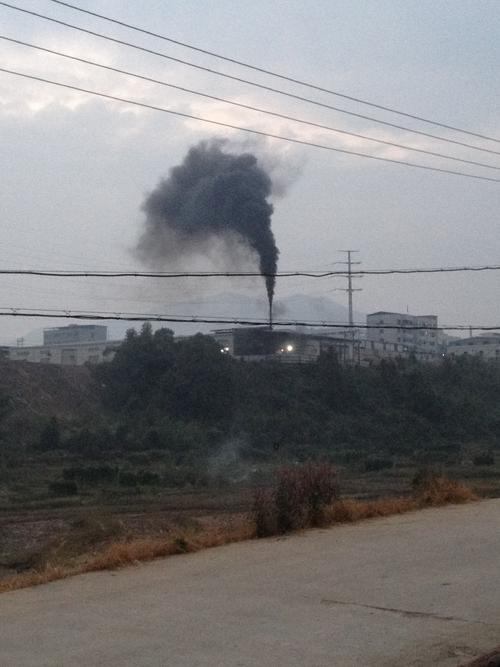smoke: (125, 135, 294, 301)
